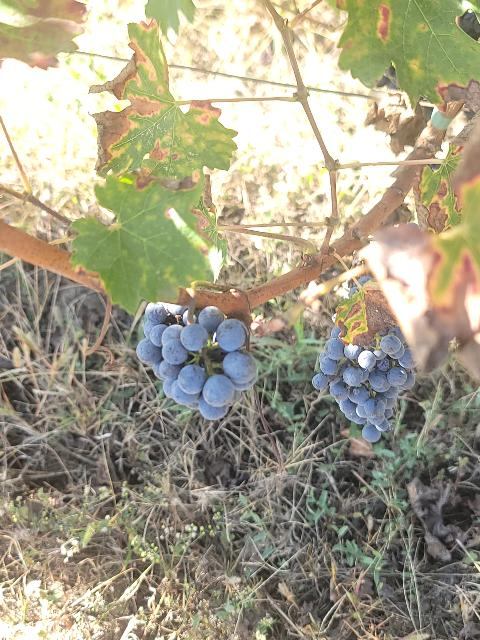grapes: (136, 302, 258, 420), (312, 326, 415, 442)
